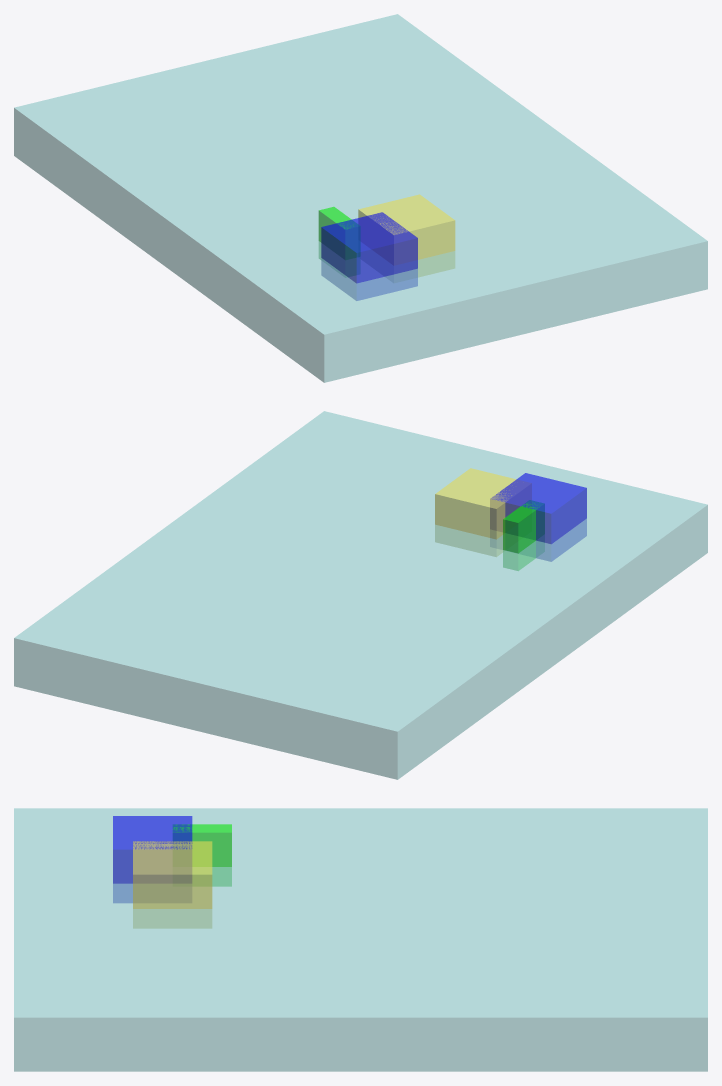
The model's file is expandToArea.glb.
3 views of the same model, one above another, from view 1: azimuth 30°, elevation 25°; view 2: azimuth 150°, elevation 25°; view 3: azimuth 270°, elevation 25° (orthographic). The views are drawn at different scales.
Parts seen in each view (by area): view 1: 34_mesh, 31_mesh, 37_mesh, 40_mesh; view 2: 34_mesh, 31_mesh, 37_mesh, 40_mesh; view 3: 34_mesh, 37_mesh, 31_mesh, 40_mesh.
Part boxes in pixels (bbox=[...]): 34_mesh: bbox=[14, 14, 707, 382]; 31_mesh: bbox=[321, 212, 417, 300]; 37_mesh: bbox=[358, 194, 455, 276]; 40_mesh: bbox=[318, 207, 360, 259]; 34_mesh: bbox=[14, 411, 707, 779]; 31_mesh: bbox=[490, 473, 586, 561]; 37_mesh: bbox=[435, 468, 531, 556]; 40_mesh: bbox=[503, 500, 544, 570]; 34_mesh: bbox=[14, 808, 707, 1071]; 37_mesh: bbox=[133, 841, 212, 928]; 31_mesh: bbox=[113, 816, 192, 902]; 40_mesh: bbox=[172, 824, 231, 886].
Size of the model in its own units: 25 by 4.9 by 35.
